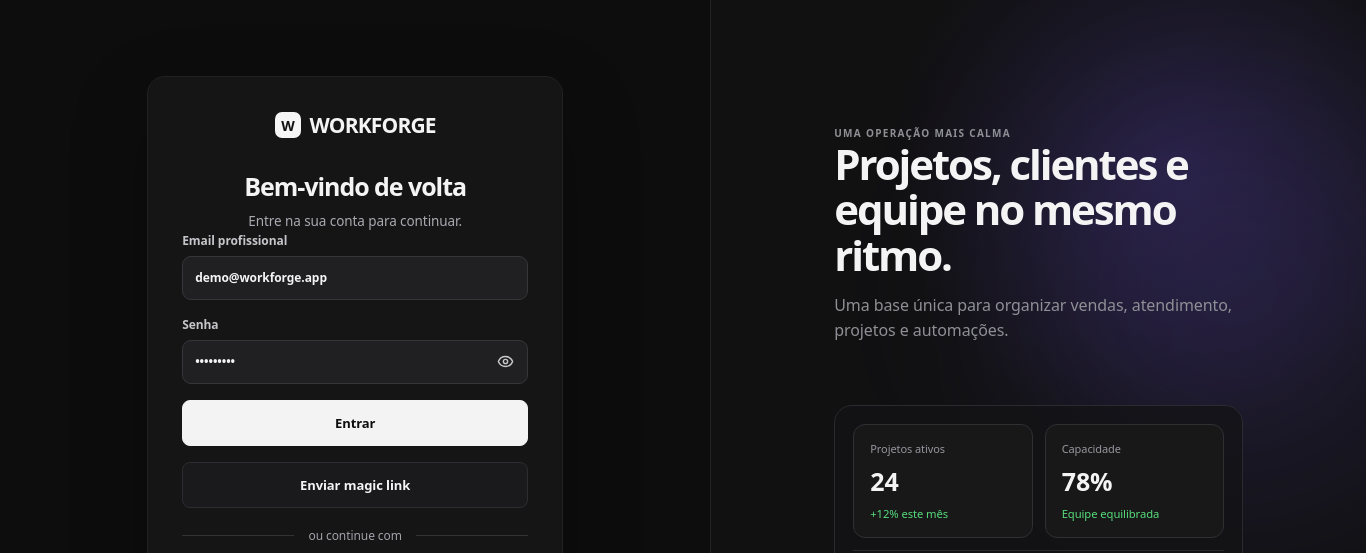
Test: core interactions › moves from login to dashboard when the workspace exists
The image size is (1366, 553).
Click the button "Entrar" at (355, 423), box [182,400,528,446]
Wait 700 ms
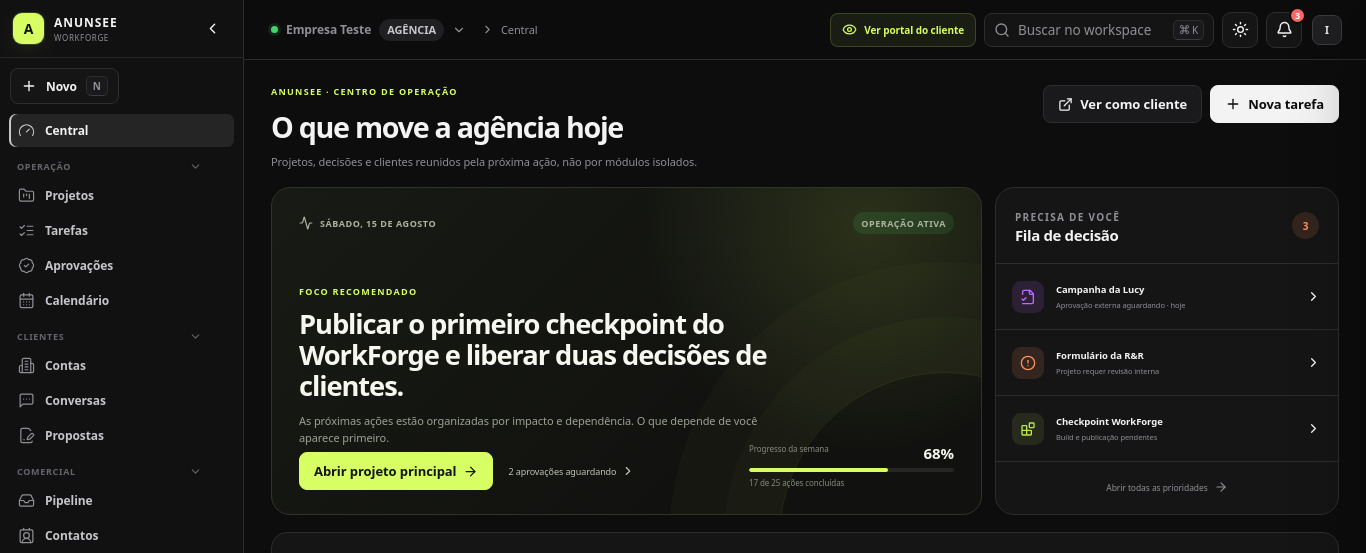
Result: the heading "O que move a agência hoje" is shown at [271,107,623,146]
